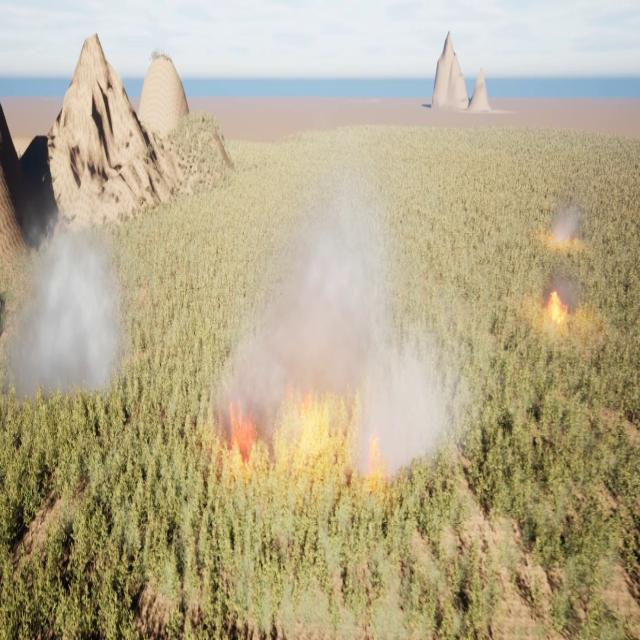fire: (286, 380, 342, 431), (227, 398, 257, 458), (366, 424, 388, 490), (547, 286, 569, 322)
smoke: (213, 129, 474, 482), (0, 198, 128, 412), (552, 195, 582, 242), (547, 270, 577, 302)
